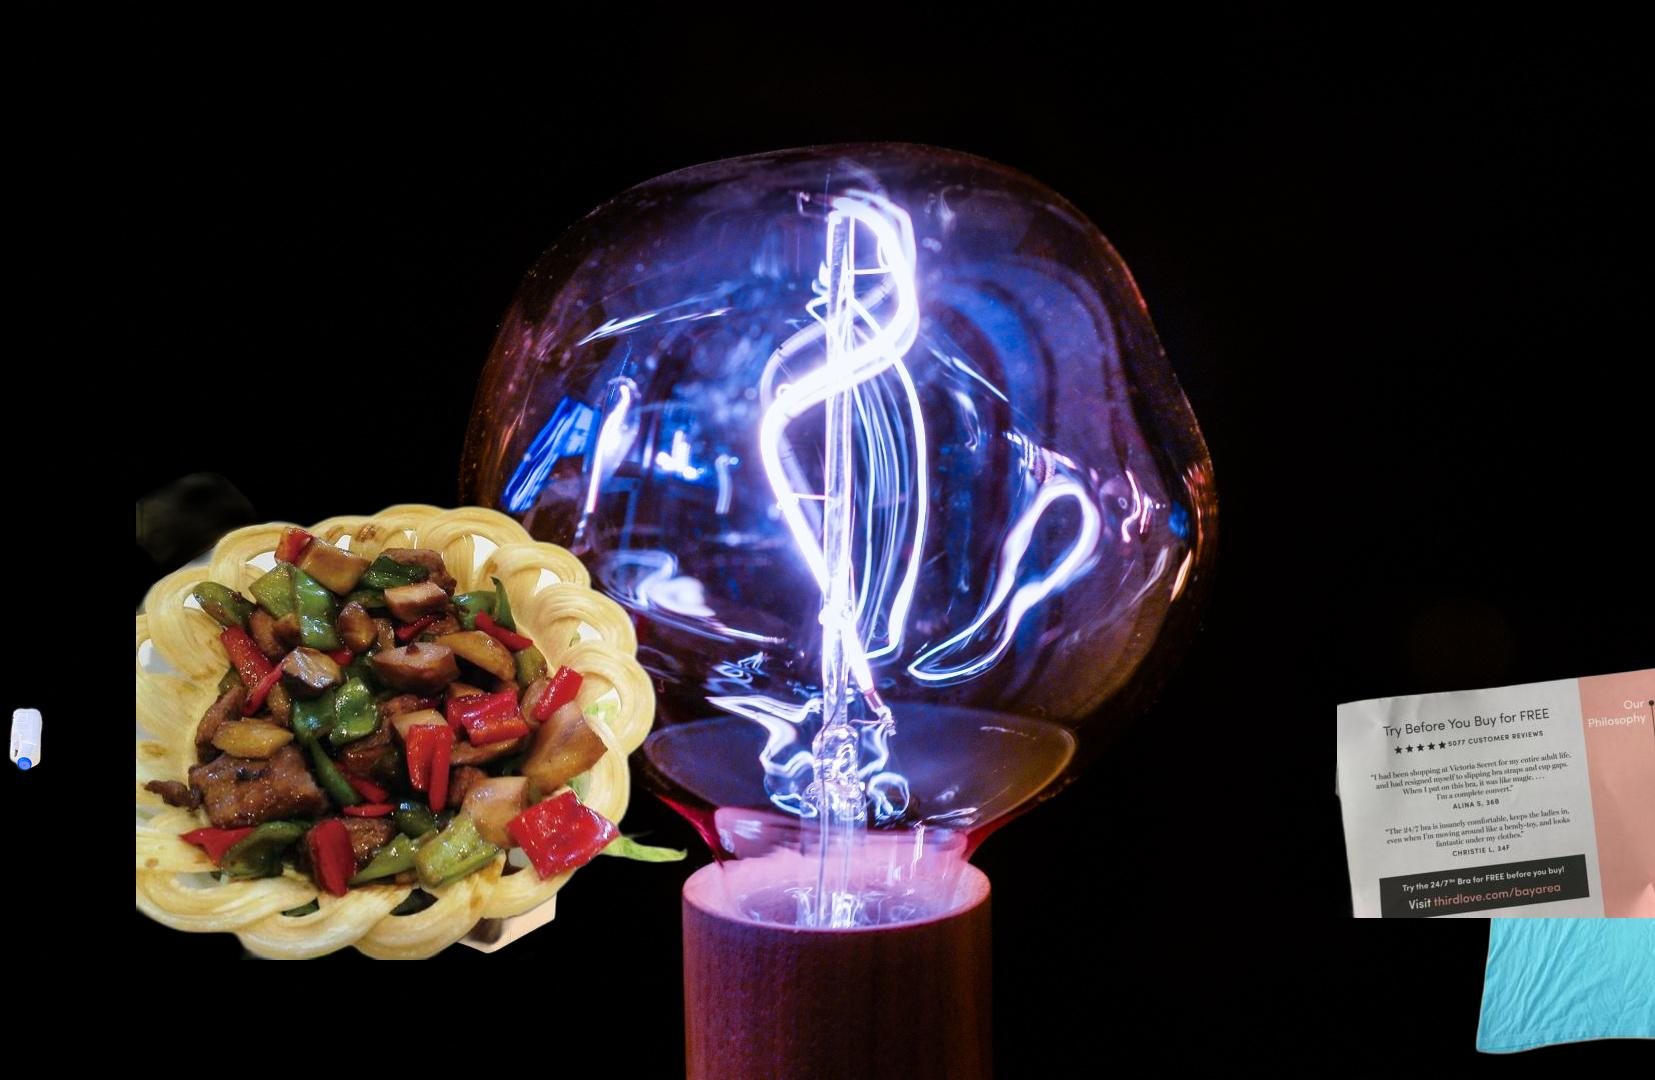biological: (136, 468, 695, 961)
clothes: (1425, 705, 1655, 1059)
paper: (1337, 649, 1655, 918)
plastic-bottles: (5, 557, 181, 1080)
shoes: (1318, 711, 1558, 885)
trashbox-cardboard: (343, 716, 596, 955)
